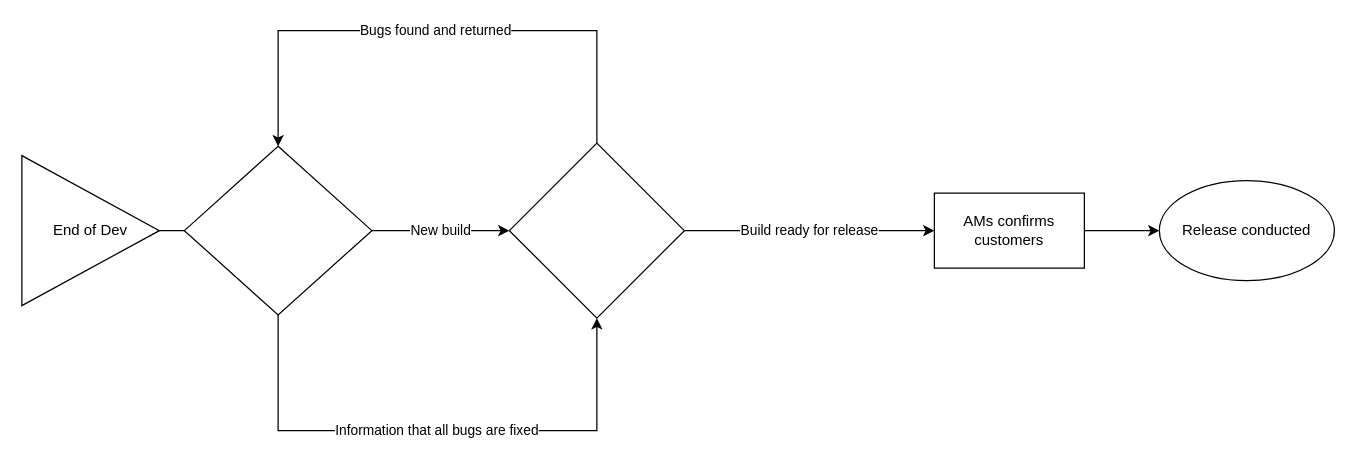
This 1356x463 diagram has some shape labels left out. The centre of each missing label's shape, as x and y in pixels:
"Build" goes at [277,230].
"Test" goes at [596,230].
